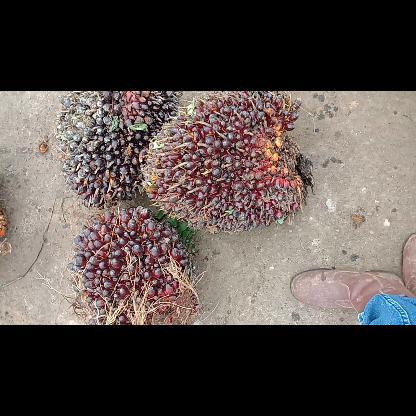Kurang masak: (139, 90, 311, 233), (65, 208, 200, 324)
TBS mentah: (58, 91, 178, 207)
